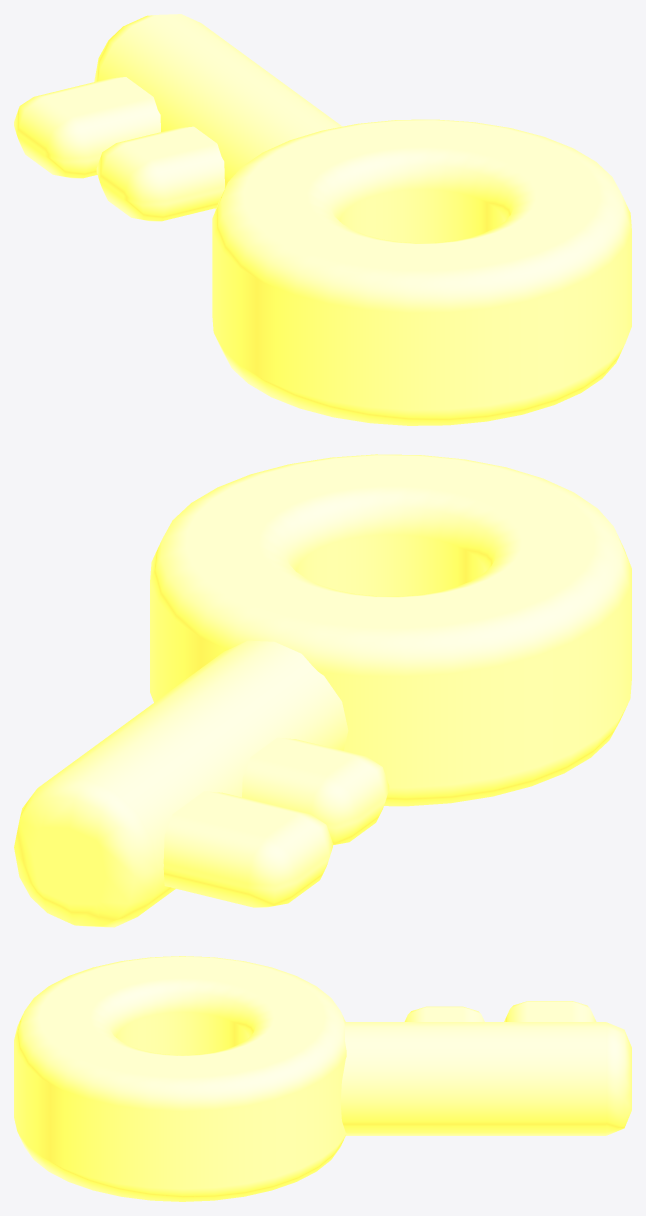
Rendered from itemKey.fbx.
The picture shows the model from 3 angles, top to bottom: view 1: azimuth 30°, elevation 25°; view 2: azimuth 150°, elevation 25°; view 3: azimuth 270°, elevation 25°; orthographic projection. The views are drawn at different scales.
Visible parts, largest first — view 1: itemKey; view 2: itemKey; view 3: itemKey.
Part boxes in pixels (box(x1,y1,x2,y2)): itemKey: box(14, 14, 631, 425); itemKey: box(14, 454, 631, 927); itemKey: box(14, 956, 631, 1201).
Size of the model in its own units: 0.4952 by 0.2 by 0.9076.
